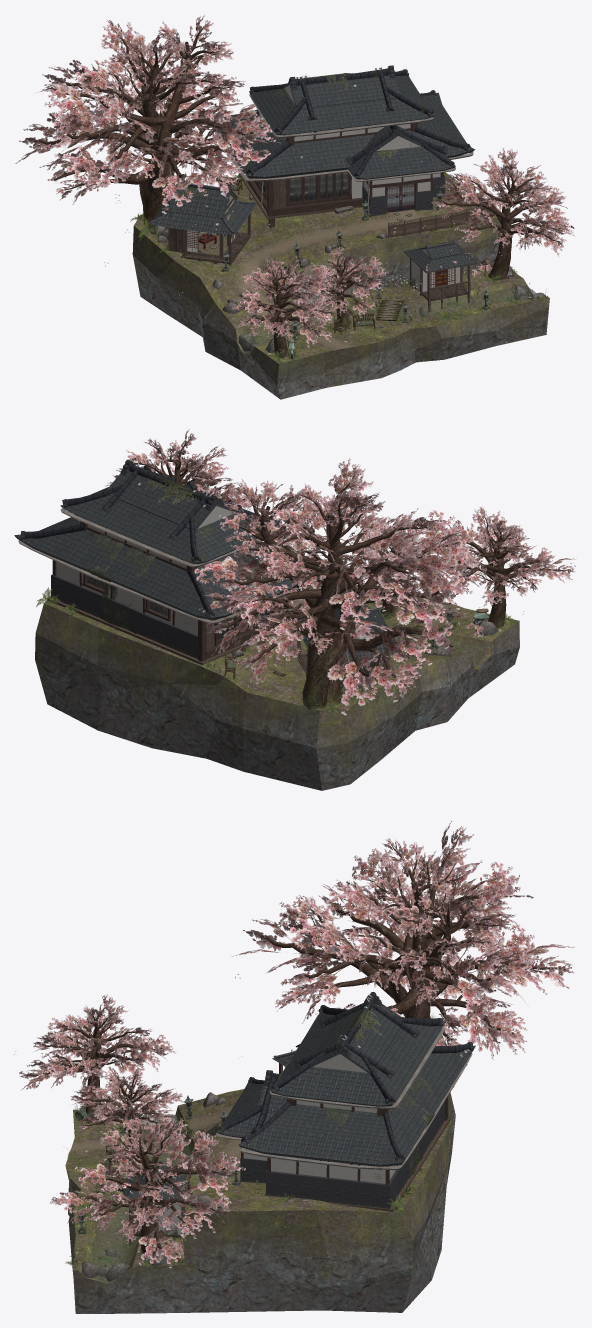
3 views of the same model, one above another, from view 1: azimuth 30°, elevation 25°; view 2: azimuth 150°, elevation 25°; view 3: azimuth 270°, elevation 25° (orthographic). The views are drawn at different scales.
Visible parts, largest first — view 1: CherryTree_01_geo5_Plants_01_tex_0, ground_01_geo_GroundCliff_01_tex_0, Teahouse_01_geo_BuildingsRooftop_01_tex_0, CherryTree_01_geo5_SakuraTree_01_tex_0, ground_01_geo_GroundGrass_01_tex_0, MainHouse_01_geo_MainhousePipesRidgesPlanks_01_tex_0, GrasBlender_04_geo_GroundGrasBlender_01_tex_0, Path_01_geo_GroundPath_01_tex_0, ground_01_geo_GroundRiverEdge_tex_0, MainHouse_01_geo_MainHouseDetails_01_tex_0, HouseSteppingStone_01_geo_BridgeAndRocks_tex_0, water_01_geo_GroundWater_01_tex_0 (+9 smaller); view 2: CherryTree_01_geo5_Plants_01_tex_0, ground_01_geo_GroundCliff_01_tex_0, Teahouse_01_geo_BuildingsRooftop_01_tex_0, CherryTree_01_geo5_SakuraTree_01_tex_0, MainHouse_01_geo_MainhousePipesRidgesPlanks_01_tex_0, ground_01_geo_GroundGrass_01_tex_0, MainHouse_01_geo_MainhouseStoneWall_01_tex_0, Teahouse_01_geo_Decals_01_tex_0, Teahouse_01_geo_BuildingsWall_01_tex_0, MainHouse_01_geo_MainHouseDetails_01_tex_0, MainHouse_01_geo_MainhouseWoodenWall_01_tex_0, ground_01_geo_GroundRiverEdge_tex_0 (+5 smaller); view 3: CherryTree_01_geo5_Plants_01_tex_0, ground_01_geo_GroundCliff_01_tex_0, Teahouse_01_geo_BuildingsRooftop_01_tex_0, CherryTree_01_geo5_SakuraTree_01_tex_0, ground_01_geo_GroundGrass_01_tex_0, MainHouse_01_geo_MainhousePipesRidgesPlanks_01_tex_0, MainHouse_01_geo_MainhouseStoneWall_01_tex_0, Teahouse_01_geo_BuildingsWall_01_tex_0, ground_01_geo_GroundRiverEdge_tex_0, water_01_geo_GroundWater_01_tex_0, Teahouse_01_geo_Decals_01_tex_0, HouseSteppingStone_01_geo_BridgeAndRocks_tex_0 (+6 smaller).
Boxes of the visible parts, x1=… form: CherryTree_01_geo5_Plants_01_tex_0: x1=15, y1=15, x2=575, y2=358; ground_01_geo_GroundCliff_01_tex_0: x1=132, y1=218, x2=549, y2=399; Teahouse_01_geo_BuildingsRooftop_01_tex_0: x1=149, y1=74, x2=476, y2=272; CherryTree_01_geo5_SakuraTree_01_tex_0: x1=38, y1=26, x2=561, y2=357; ground_01_geo_GroundGrass_01_tex_0: x1=134, y1=172, x2=549, y2=363; MainHouse_01_geo_MainhousePipesRidgesPlanks_01_tex_0: x1=212, y1=68, x2=473, y2=227; GrasBlender_04_geo_GroundGrasBlender_01_tex_0: x1=228, y1=211, x2=435, y2=351; Path_01_geo_GroundPath_01_tex_0: x1=235, y1=209, x2=419, y2=349; ground_01_geo_GroundRiverEdge_tex_0: x1=236, y1=278, x2=531, y2=354; MainHouse_01_geo_MainHouseDetails_01_tex_0: x1=246, y1=65, x2=470, y2=212; HouseSteppingStone_01_geo_BridgeAndRocks_tex_0: x1=151, y1=193, x2=544, y2=353; water_01_geo_GroundWater_01_tex_0: x1=239, y1=285, x2=535, y2=352; CherryTree_01_geo5_Plants_01_tex_0: x1=105, y1=429, x2=575, y2=715; ground_01_geo_GroundCliff_01_tex_0: x1=35, y1=603, x2=519, y2=790; Teahouse_01_geo_BuildingsRooftop_01_tex_0: x1=14, y1=469, x2=402, y2=660; CherryTree_01_geo5_SakuraTree_01_tex_0: x1=134, y1=436, x2=566, y2=709; MainHouse_01_geo_MainhousePipesRidgesPlanks_01_tex_0: x1=18, y1=464, x2=312, y2=661; ground_01_geo_GroundGrass_01_tex_0: x1=44, y1=583, x2=519, y2=710; MainHouse_01_geo_MainhouseStoneWall_01_tex_0: x1=51, y1=574, x2=197, y2=658; Teahouse_01_geo_Decals_01_tex_0: x1=83, y1=478, x2=367, y2=638; Teahouse_01_geo_BuildingsWall_01_tex_0: x1=56, y1=506, x2=376, y2=639; MainHouse_01_geo_MainHouseDetails_01_tex_0: x1=21, y1=459, x2=280, y2=639; MainHouse_01_geo_MainhouseWoodenWall_01_tex_0: x1=47, y1=593, x2=289, y2=665; ground_01_geo_GroundRiverEdge_tex_0: x1=307, y1=584, x2=491, y2=669; CherryTree_01_geo5_Plants_01_tex_0: x1=19, y1=821, x2=574, y2=1268; ground_01_geo_GroundCliff_01_tex_0: x1=66, y1=1092, x2=455, y2=1313; Teahouse_01_geo_BuildingsRooftop_01_tex_0: x1=122, y1=1001, x2=475, y2=1199; CherryTree_01_geo5_SakuraTree_01_tex_0: x1=30, y1=835, x2=557, y2=1263; ground_01_geo_GroundGrass_01_tex_0: x1=65, y1=1089, x2=451, y2=1270; MainHouse_01_geo_MainhousePipesRidgesPlanks_01_tex_0: x1=216, y1=997, x2=472, y2=1184; MainHouse_01_geo_MainhouseStoneWall_01_tex_0: x1=240, y1=1101, x2=444, y2=1208; Teahouse_01_geo_BuildingsWall_01_tex_0: x1=154, y1=1054, x2=396, y2=1235; ground_01_geo_GroundRiverEdge_tex_0: x1=79, y1=1106, x2=194, y2=1283; water_01_geo_GroundWater_01_tex_0: x1=87, y1=1114, x2=191, y2=1282; Teahouse_01_geo_Decals_01_tex_0: x1=158, y1=1004, x2=434, y2=1235; HouseSteppingStone_01_geo_BridgeAndRocks_tex_0: x1=81, y1=1092, x2=240, y2=1281.
Size of the model in its own units: 0.4873 by 0.3 by 0.469.
Materials: 32 (32 with a texture image).
